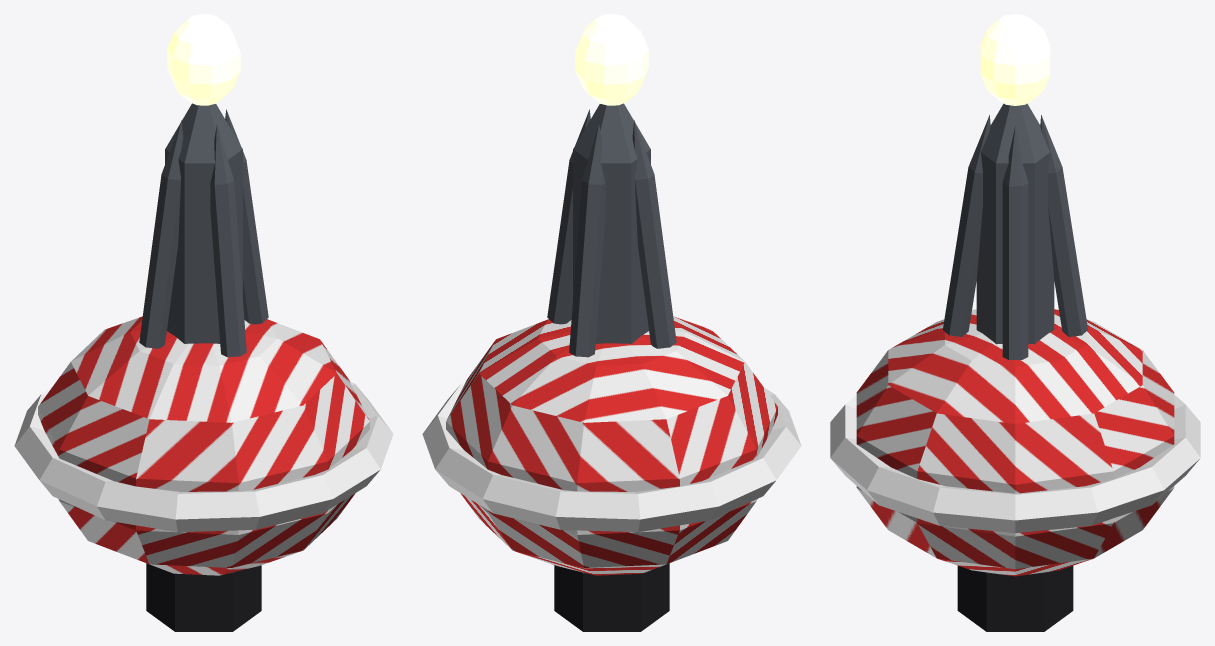
The model's file is Buoy.glb.
3 renders of one model, left to right at view 1: azimuth 30°, elevation 25°; view 2: azimuth 150°, elevation 25°; view 3: azimuth 270°, elevation 25°, orthographic.
Parts seen in each view (by area): view 1: Buoy, Buoy_Glow; view 2: Buoy, Buoy_Glow; view 3: Buoy, Buoy_Glow.
Boxes of the visible parts, x1,y1,x2,y2 form: Buoy: [14, 103, 393, 631]; Buoy_Glow: [167, 14, 240, 105]; Buoy: [422, 103, 801, 631]; Buoy_Glow: [575, 14, 648, 105]; Buoy: [830, 103, 1200, 631]; Buoy_Glow: [980, 14, 1050, 105].
Size of the model in its own units: 2.22 by 3.83 by 2.16.
2 materials, 1 textured.
